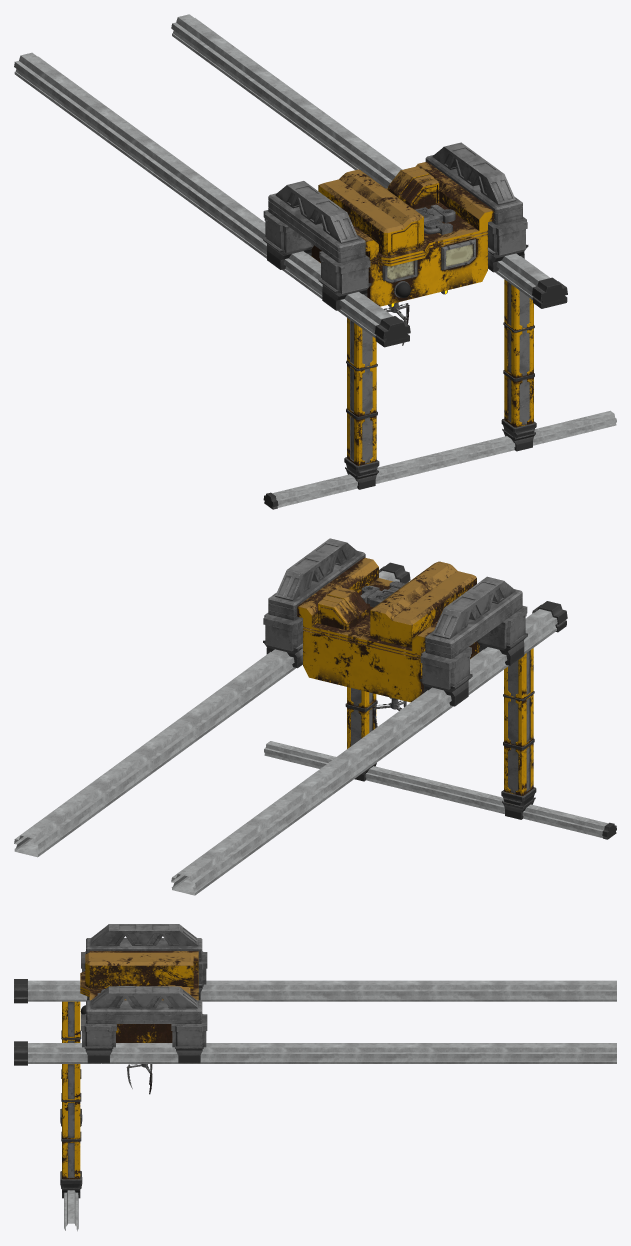
Rendered from Crane_Starter_Set.fbx.
The picture shows the model from 3 angles, top to bottom: view 1: azimuth 30°, elevation 25°; view 2: azimuth 150°, elevation 25°; view 3: azimuth 270°, elevation 25°; orthographic projection. The views are drawn at different scales.
Visible parts, largest first — view 1: Rail.001, Cranebody, TopAccent, RailBase, TerrainRail.002, Rail, TerrainRail.008; view 2: Rail.001, Cranebody, TopAccent, RailBase, TerrainRail.002, Rail, TerrainRail.008; view 3: Rail.001, TopAccent, Cranebody, RailBase, Rail, TerrainRail.002.
Boxes of the visible parts, left/top/right/bottom form: Rail.001: left=14, top=14, right=402, bottom=298; Cranebody: left=311, top=161, right=494, bottom=306; TopAccent: left=263, top=142, right=528, bottom=310; RailBase: left=344, top=279, right=536, bottom=489; TerrainRail.002: left=316, top=410, right=616, bottom=497; Rail: left=337, top=253, right=567, bottom=347; TerrainRail.008: left=263, top=482, right=321, bottom=509; Rail.001: left=14, top=647, right=508, bottom=895; Cranebody: left=297, top=557, right=479, bottom=702; TopAccent: left=263, top=538, right=527, bottom=706; RailBase: left=345, top=648, right=536, bottom=819; TerrainRail.002: left=264, top=741, right=564, bottom=827; Rail: left=379, top=562, right=567, bottom=654; TerrainRail.008: left=558, top=813, right=616, bottom=839; Rail.001: left=102, top=980, right=616, bottom=1063; TopAccent: left=81, top=924, right=207, bottom=1063; Cranebody: left=80, top=951, right=198, bottom=1042; RailBase: left=60, top=1001, right=82, bottom=1198; Rail: left=14, top=979, right=101, bottom=1065; TerrainRail.002: left=64, top=1190, right=78, bottom=1231.
Size of the model in its own units: 3500 by 2452 by 6535.
